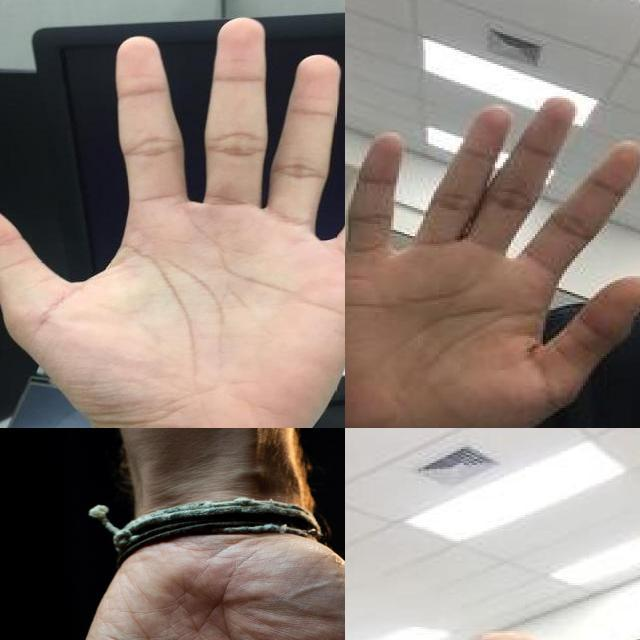no-gloves: (0, 13, 345, 428), (345, 94, 640, 428), (461, 428, 640, 640), (30, 525, 345, 640)
